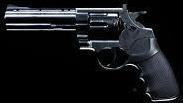gun: (1, 1, 183, 103)
